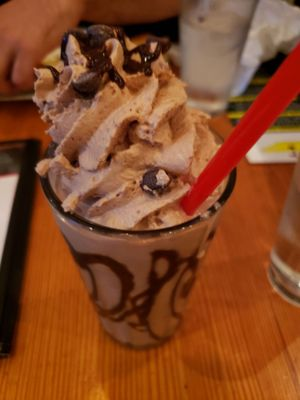pizza: (178, 0, 257, 115), (265, 142, 300, 309)
sandwich: (179, 36, 300, 216)
